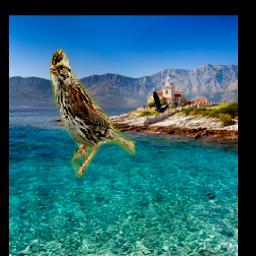Crow: (152, 90, 171, 113)
Sparrow: (49, 46, 136, 179)
